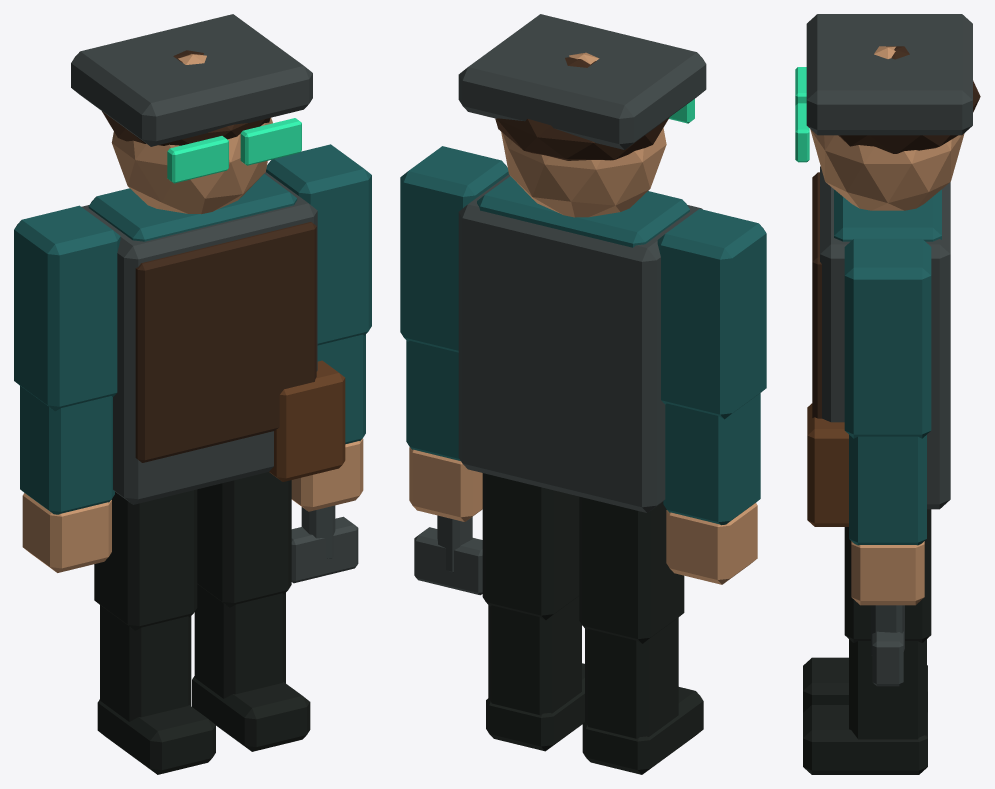
The model's file is TamsinEastworksEngineer.glb.
The picture shows the model from 3 angles, left to right: view 1: azimuth 30°, elevation 25°; view 2: azimuth 150°, elevation 25°; view 3: azimuth 270°, elevation 25°; orthographic projection. The views are drawn at different scales.
Parts seen in each view (by area): view 1: UpperTorso_ToolHarness, Head_EngineerCap, LeftUpperArm, UpperTorso_Tunic, RightUpperArm, LeftUpperLeg, RightUpperLeg, LeftLowerArm, LeftLowerLeg, RightLowerLeg, LowerTorso_ToolPouch, Head (+11 smaller); view 2: UpperTorso_Tunic, Head_EngineerCap, LeftUpperArm, RightUpperArm, RightUpperLeg, LeftUpperLeg, LeftLowerArm, LeftLowerLeg, RightLowerLeg, Head, UpperTorso, RightLowerArm (+7 smaller); view 3: Head_EngineerCap, RightUpperArm, UpperTorso_Tunic, RightLowerArm, Head, RightLowerLeg, RightFoot, LowerTorso_ToolPouch, RightHand, UpperTorso, RightUpperLeg, UpperTorso_ToolHarness (+6 smaller).
Boxes of the visible parts, bbox=[...] form: UpperTorso_ToolHarness: bbox=[135, 222, 316, 462]; Head_EngineerCap: bbox=[71, 14, 312, 146]; LeftUpperArm: bbox=[14, 205, 120, 411]; UpperTorso_Tunic: bbox=[81, 172, 317, 504]; RightUpperArm: bbox=[266, 144, 371, 345]; LeftUpperLeg: bbox=[94, 489, 197, 630]; RightUpperLeg: bbox=[197, 472, 291, 607]; LeftLowerArm: bbox=[20, 386, 114, 514]; LeftLowerLeg: bbox=[100, 605, 191, 721]; RightLowerLeg: bbox=[194, 584, 285, 698]; LowerTorso_ToolPouch: bbox=[269, 360, 345, 481]; Head: bbox=[111, 54, 272, 214]; UpperTorso_Tunic: bbox=[458, 174, 702, 512]; Head_EngineerCap: bbox=[458, 14, 706, 149]; LeftUpperArm: bbox=[657, 209, 766, 419]; RightUpperArm: bbox=[400, 146, 508, 352]; RightUpperLeg: bbox=[482, 473, 579, 620]; LeftUpperLeg: bbox=[579, 496, 684, 643]; LeftLowerArm: bbox=[663, 393, 760, 525]; LeftLowerLeg: bbox=[585, 617, 678, 738]; RightLowerLeg: bbox=[488, 596, 581, 715]; Head: bbox=[501, 52, 666, 217]; UpperTorso: bbox=[477, 176, 689, 247]; RightLowerArm: bbox=[406, 340, 460, 460]; Head_EngineerCap: bbox=[806, 14, 972, 135]; RightUpperArm: bbox=[844, 238, 931, 438]; UpperTorso_Tunic: bbox=[820, 166, 950, 509]; RightLowerArm: bbox=[849, 435, 926, 545]; Head: bbox=[810, 46, 964, 210]; RightLowerLeg: bbox=[849, 639, 926, 739]; RightFoot: bbox=[803, 705, 927, 774]; LowerTorso_ToolPouch: bbox=[807, 403, 848, 526]; RightHand: bbox=[851, 541, 924, 605]; UpperTorso: bbox=[834, 189, 941, 241]; RightUpperLeg: bbox=[844, 509, 931, 642]; UpperTorso_ToolHarness: bbox=[812, 172, 821, 418].
Bounding box in the file's own units: 4.26 × 8.48 × 2.06.
Materials: 1 (1 with a texture image).
